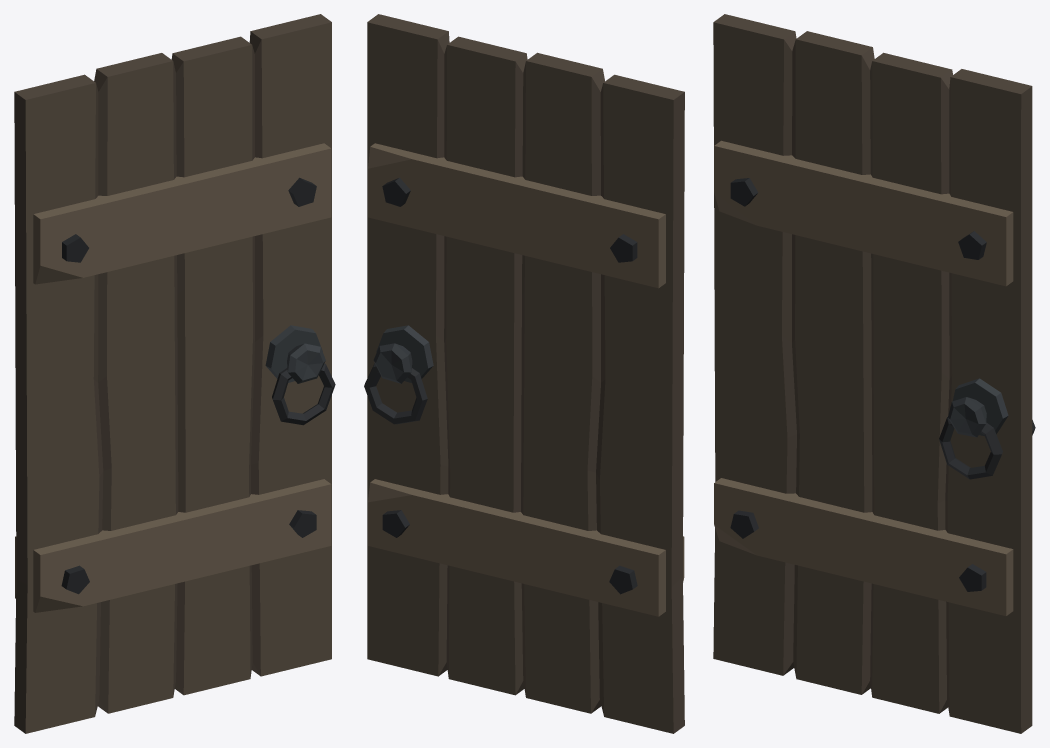
Rendered from SM_Bld_Village_Door_Basic_01.fbx.
The picture shows the model from 3 angles, left to right: view 1: azimuth 30°, elevation 25°; view 2: azimuth 150°, elevation 25°; view 3: azimuth 330°, elevation 25°; orthographic projection.
Visible parts, largest first — view 1: SM_Bld_Village_Door_Basic_01; view 2: SM_Bld_Village_Door_Basic_01; view 3: SM_Bld_Village_Door_Basic_01.
Boxes of the visible parts, x1,y1,x2,y2 form: SM_Bld_Village_Door_Basic_01: (14, 14, 335, 733); SM_Bld_Village_Door_Basic_01: (364, 14, 684, 733); SM_Bld_Village_Door_Basic_01: (713, 14, 1035, 733).
Bounding box in the file's own units: 121 × 239 × 30.68.
